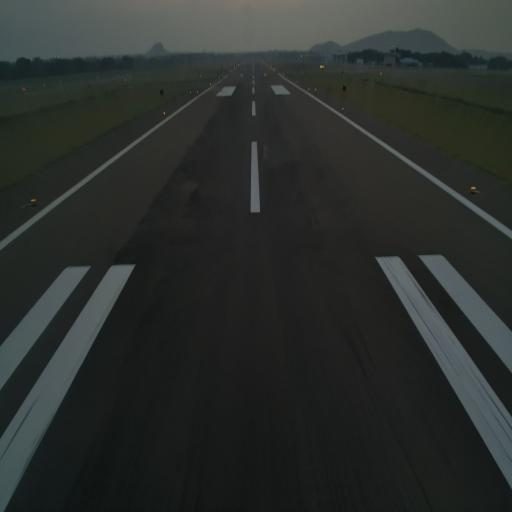on: (470, 182, 476, 196), (30, 194, 36, 207), (341, 104, 345, 115), (162, 109, 167, 117)
